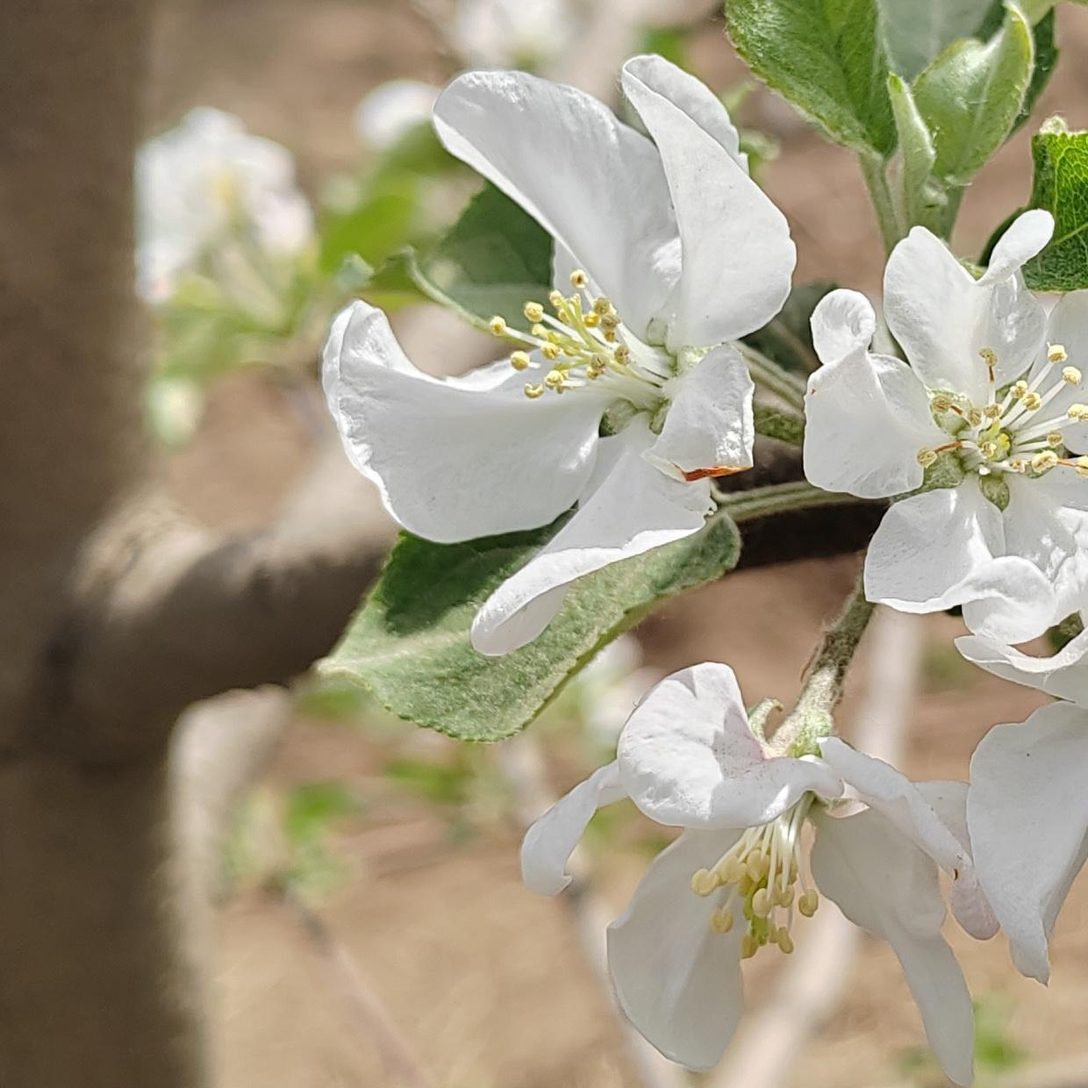apple_flower: (322, 55, 795, 656), (521, 663, 974, 1085), (803, 207, 1088, 643), (963, 605, 1088, 977), (133, 105, 311, 302)
